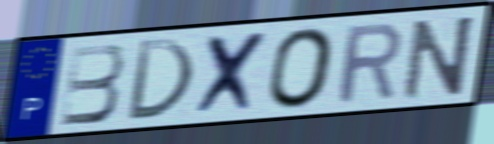B: (58, 41, 127, 129)
D: (123, 36, 197, 123)
N: (401, 12, 478, 103)
O: (267, 25, 337, 112)
R: (336, 19, 404, 107)
X: (191, 28, 274, 118)
